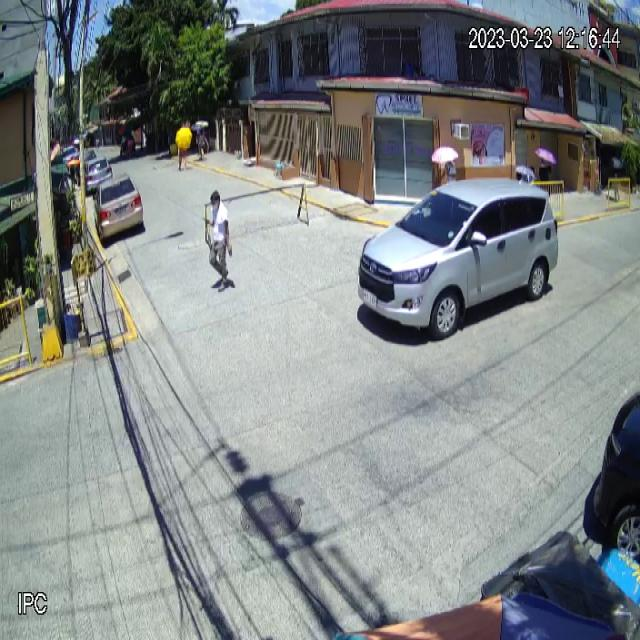Car: (356, 176, 558, 340), (94, 173, 144, 241)
